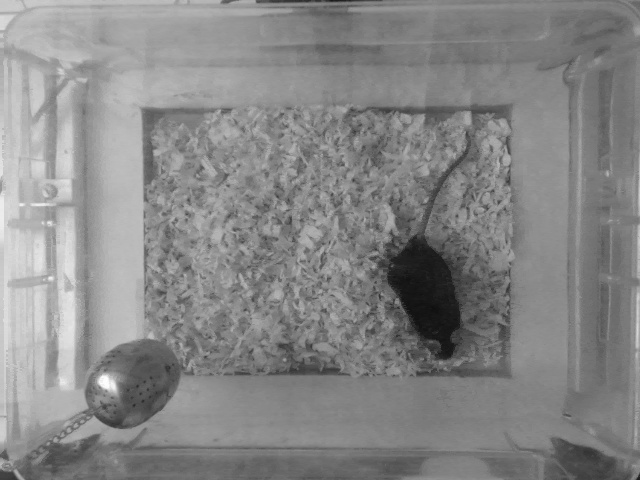mice: (371, 133, 474, 373)
